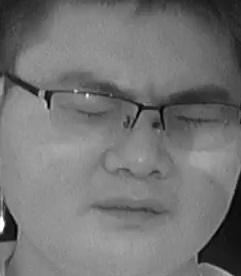blink: (173, 113, 213, 130), (74, 104, 111, 122)
glass: (46, 87, 139, 142), (159, 98, 238, 154)
mouth: (96, 192, 165, 231)
